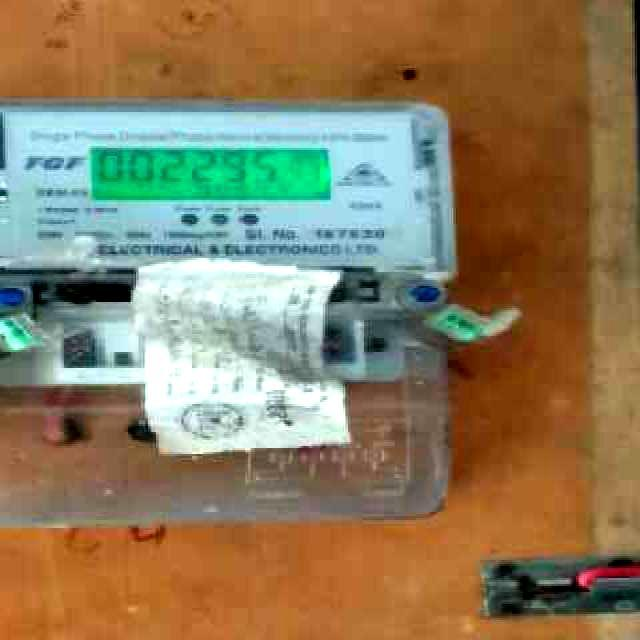LCD: (83, 140, 339, 206)
